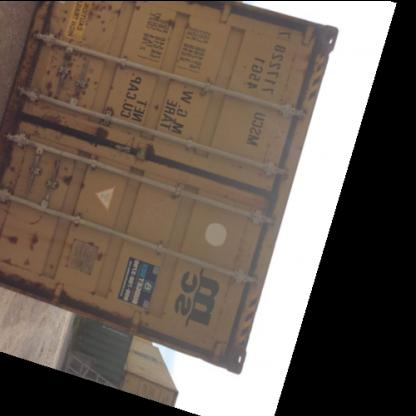Damage: (44, 48, 102, 104), (89, 1, 125, 36), (45, 5, 74, 40), (133, 136, 163, 168), (6, 228, 46, 250), (294, 48, 318, 84), (58, 168, 92, 192), (85, 283, 125, 303), (82, 235, 108, 261), (90, 122, 114, 150), (6, 256, 43, 272), (161, 186, 188, 206), (197, 80, 219, 102), (28, 208, 50, 228), (70, 216, 89, 232), (163, 15, 178, 33), (134, 1, 150, 15), (152, 100, 162, 116)
